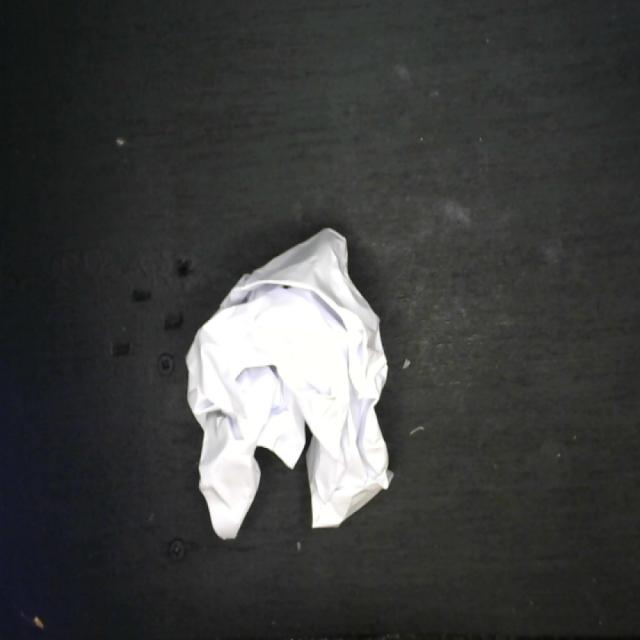biodegradable: (182, 220, 398, 545)
